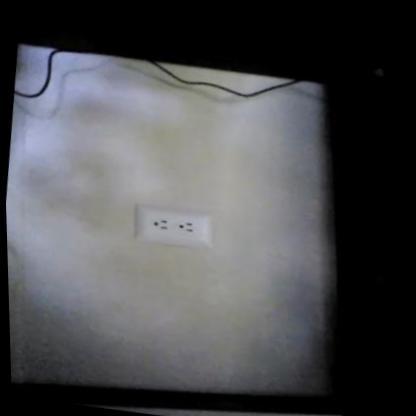OUTLET: (134, 202, 215, 249)
